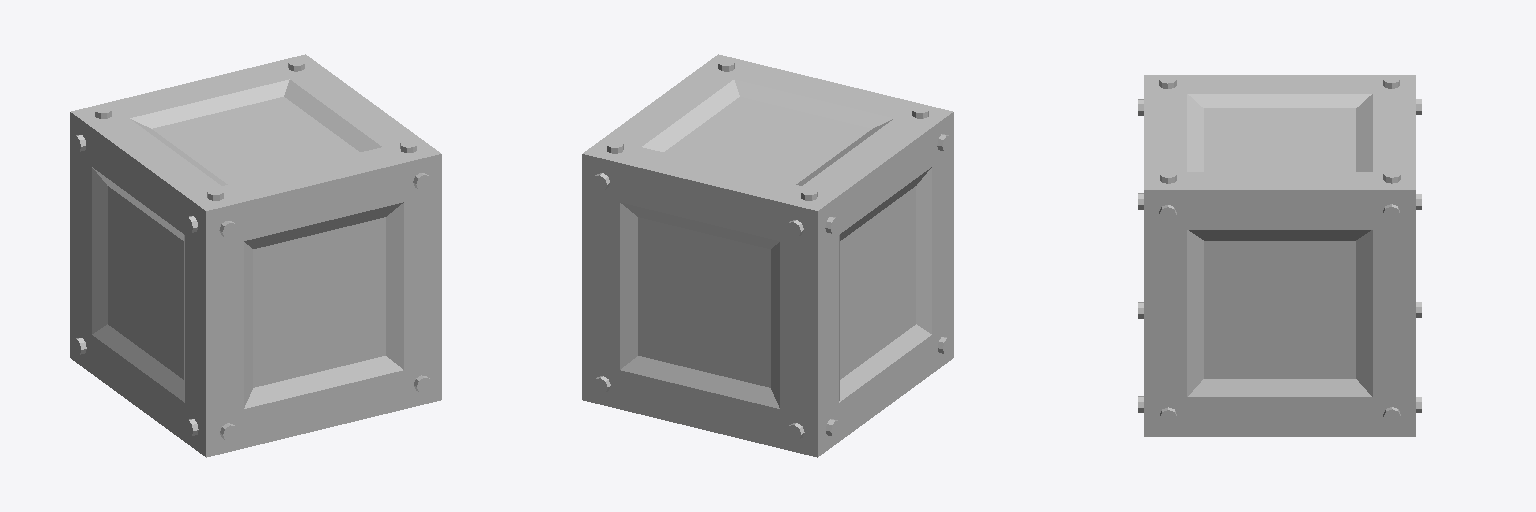
Rendered from Block_Metal.obj.
3 views of the same model, side by side, from view 1: azimuth 30°, elevation 25°; view 2: azimuth 150°, elevation 25°; view 3: azimuth 270°, elevation 25° (orthographic).
Visible parts, largest first — view 1: Block_Metal_Cube.522; view 2: Block_Metal_Cube.522; view 3: Block_Metal_Cube.522.
Boxes of the visible parts, x1,y1,x2,y2 form: Block_Metal_Cube.522: [70, 54, 441, 457]; Block_Metal_Cube.522: [582, 54, 953, 457]; Block_Metal_Cube.522: [1138, 75, 1421, 436].
Bounding box in the file's own units: 2.09 × 2.09 × 2.09.